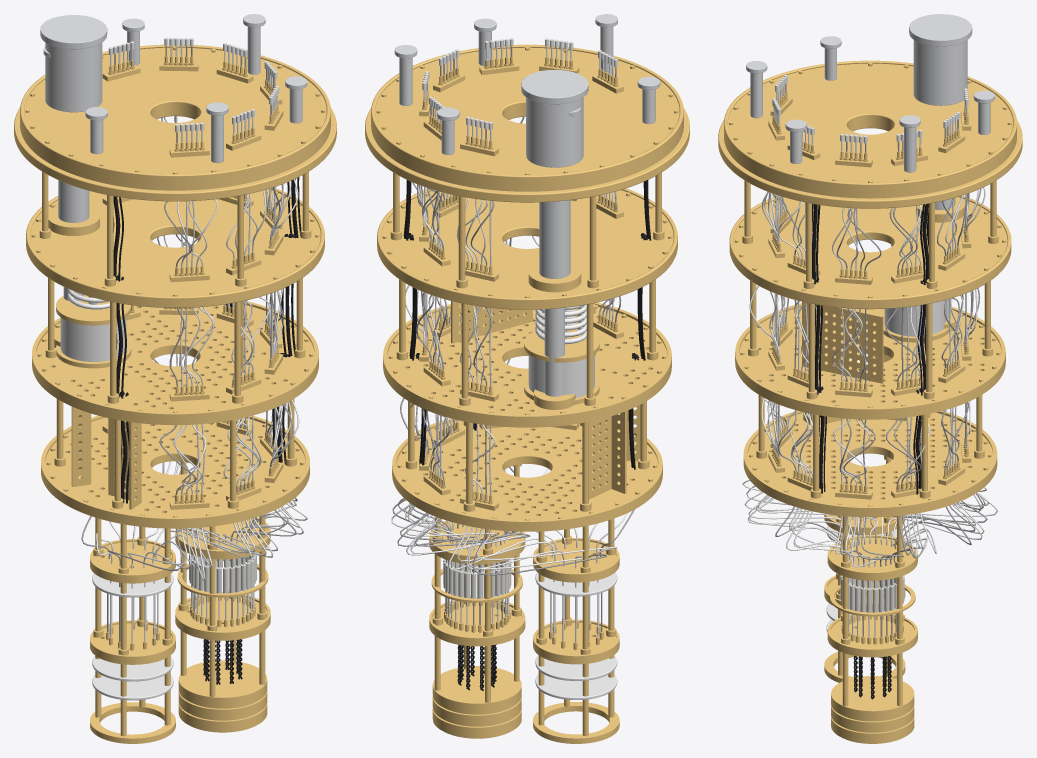
Rendered from cryostat-desktop.glb.
The picture shows the model from 3 angles, left to right: view 1: azimuth 30°, elevation 25°; view 2: azimuth 150°, elevation 25°; view 3: azimuth 270°, elevation 25°; orthographic projection. The views are drawn at different scales.
Parts seen in each view (by area): view 1: plate-300K, gold-structure, plate-50K, plate-4K, plate-800mK, coax, steel, connectors, plate-10mK, aluminium, wires, plate-100mK (+2 smaller); view 2: plate-300K, gold-structure, plate-50K, plate-800mK, plate-4K, steel, coax, connectors, plate-10mK, aluminium, coax-dark, plate-100mK (+2 smaller); view 3: plate-300K, gold-structure, plate-50K, plate-800mK, plate-4K, coax, connectors, steel, coax-dark, wires, plate-100mK, plate-10mK (+2 smaller).
Part boxes in pixels (x1=…): plate-300K: x1=14, y1=44, x2=336, y2=201; gold-structure: x1=39, y1=171, x2=311, y2=743; plate-50K: x1=26, y1=188, x2=324, y2=307; plate-4K: x1=32, y1=301, x2=318, y2=425; plate-800mK: x1=41, y1=415, x2=309, y2=528; coax: x1=67, y1=37, x2=307, y2=650; steel: x1=40, y1=14, x2=307, y2=304; connectors: x1=25, y1=46, x2=325, y2=517; plate-10mK: x1=90, y1=592, x2=270, y2=664; aluminium: x1=60, y1=317, x2=173, y2=700; wires: x1=113, y1=177, x2=301, y2=684; plate-100mK: x1=90, y1=517, x2=270, y2=583; plate-300K: x1=365, y1=44, x2=689, y2=202; gold-structure: x1=390, y1=172, x2=664, y2=743; plate-50K: x1=377, y1=188, x2=677, y2=309; plate-800mK: x1=392, y1=418, x2=662, y2=531; plate-4K: x1=383, y1=302, x2=671, y2=427; steel: x1=394, y1=14, x2=660, y2=396; coax: x1=391, y1=38, x2=627, y2=650; connectors: x1=376, y1=47, x2=678, y2=520; plate-10mK: x1=429, y1=597, x2=619, y2=664; aluminium: x1=528, y1=354, x2=617, y2=699; coax-dark: x1=392, y1=46, x2=634, y2=641; plate-100mK: x1=429, y1=520, x2=619, y2=582; plate-300K: x1=718, y1=60, x2=1022, y2=208; gold-structure: x1=742, y1=180, x2=998, y2=743; plate-50K: x1=729, y1=195, x2=1011, y2=309; plate-800mK: x1=743, y1=410, x2=997, y2=517; plate-4K: x1=735, y1=303, x2=1005, y2=419; coax: x1=742, y1=75, x2=997, y2=644; connectors: x1=729, y1=62, x2=1011, y2=506; steel: x1=746, y1=14, x2=994, y2=318; coax-dark: x1=772, y1=83, x2=987, y2=644; wires: x1=812, y1=203, x2=928, y2=699; plate-100mK: x1=824, y1=515, x2=917, y2=580; plate-10mK: x1=824, y1=575, x2=917, y2=657.
Size of the model in its own units: 0.54 by 1.27 by 0.54.
